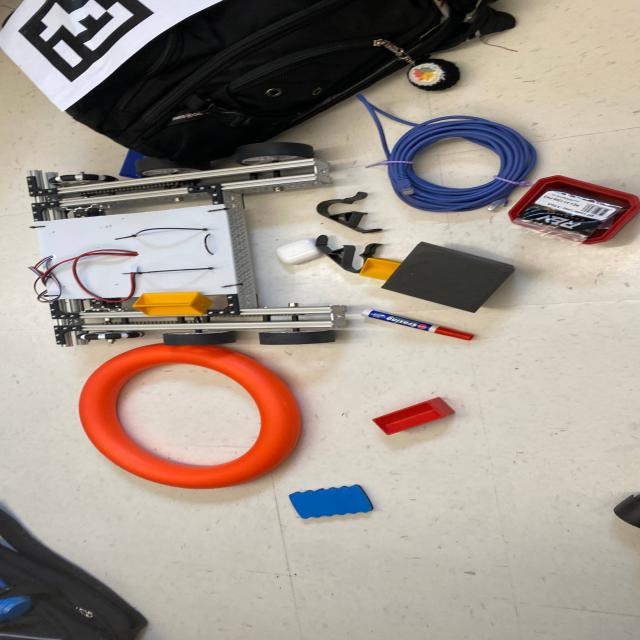blue-specimen: (119, 150, 146, 178)
red-specimen: (373, 398, 454, 435)
yellow-specimen: (133, 292, 212, 316), (359, 258, 401, 281)
